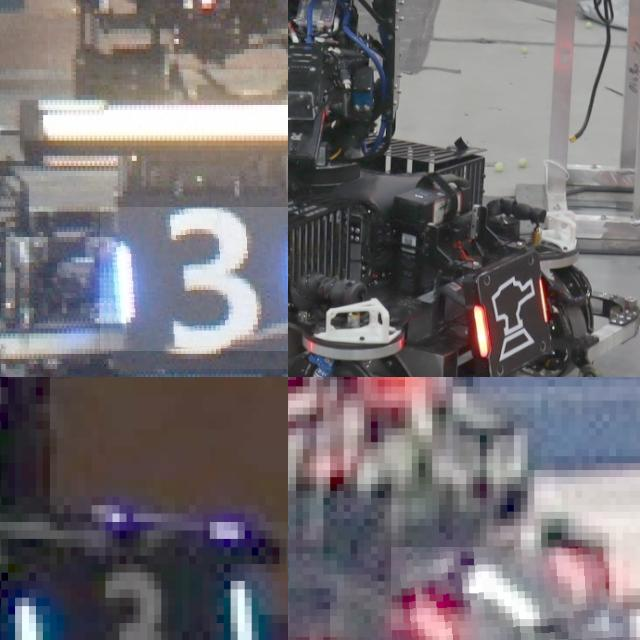B3: (100, 206, 288, 351), (8, 547, 258, 640)
R1: (391, 546, 609, 640)
Rs: (471, 269, 553, 362)
